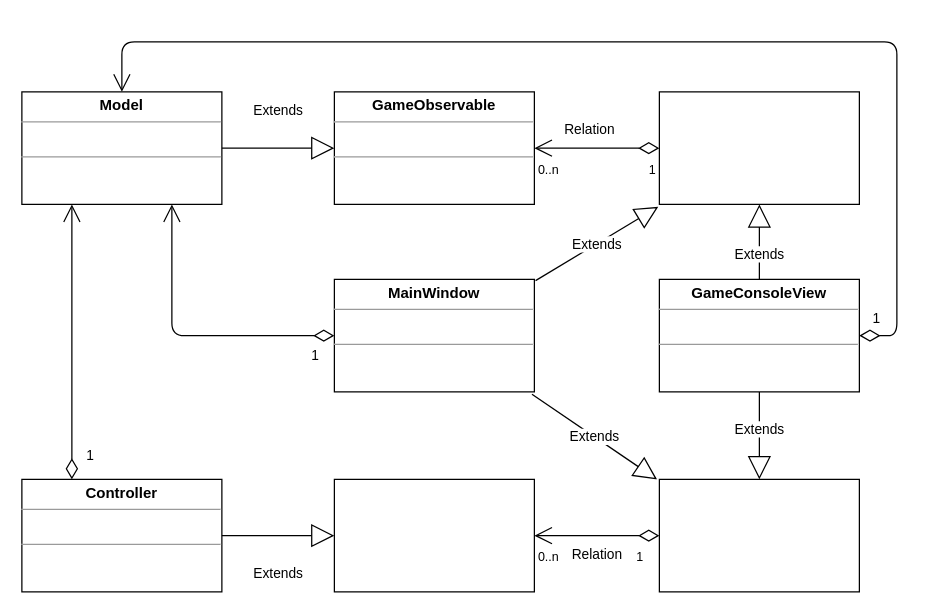
Some shapes in this 940 by 614 pixel diagram are drawn without their labels. Here are the shapes that lost their labels. From the top down, the centre of each, then its label:
(x=758, y=147): GameObserver
(x=433, y=535): ViewObserver
(x=758, y=535): ViewObservable
